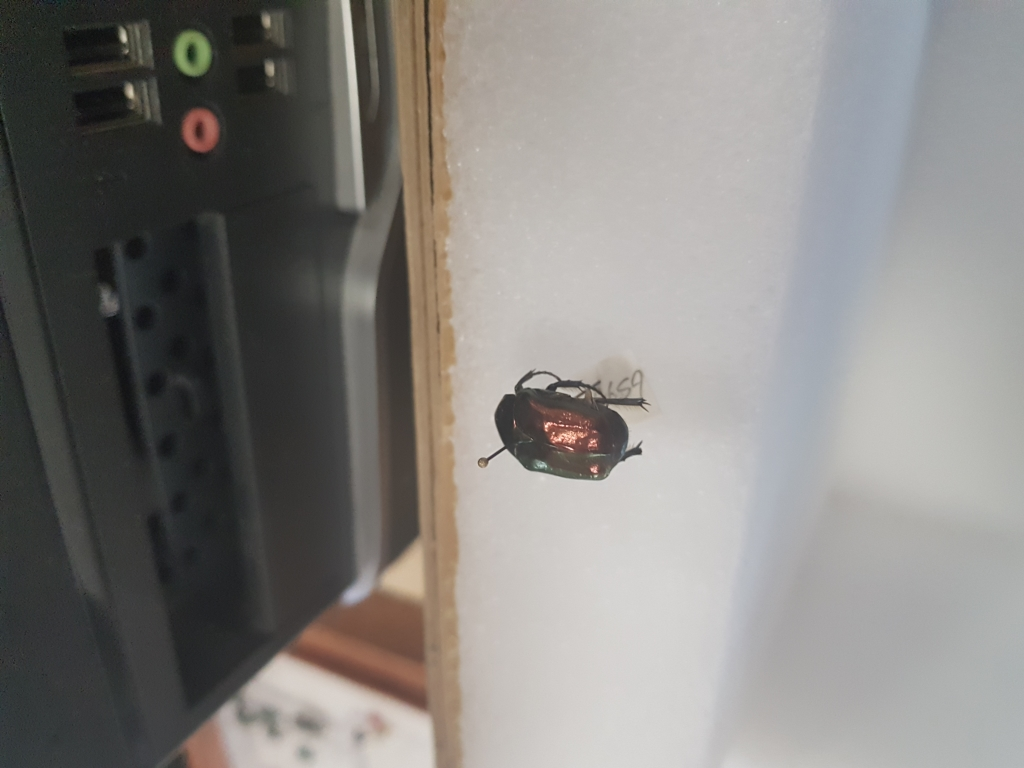Protaetia_cuprea_ignicollis: (491, 359, 663, 483)
